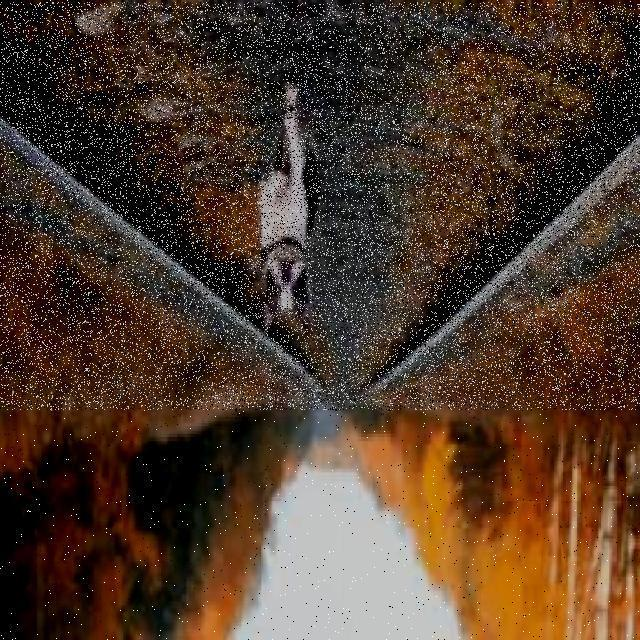danger: (243, 80, 331, 340)
